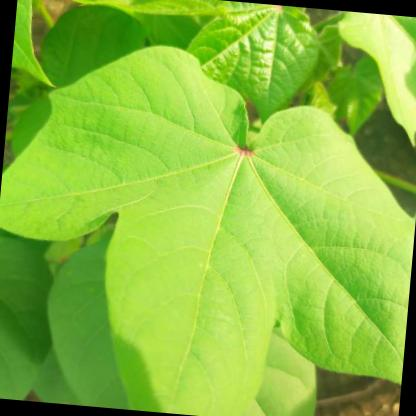cotton: (7, 29, 416, 416)
